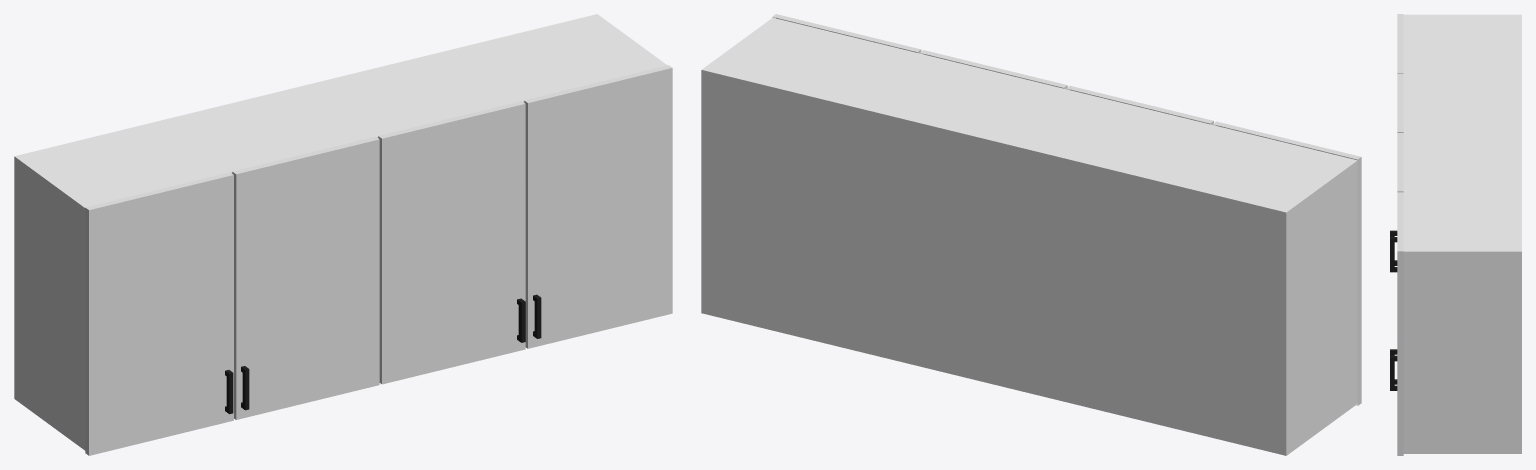
File: kitchen_item_025.glb
3 renders of one model, left to right at view 1: azimuth 30°, elevation 25°; view 2: azimuth 150°, elevation 25°; view 3: azimuth 270°, elevation 25°, orthographic. The views are drawn at different scales.
Visible parts, largest first — view 1: kitchen_item_025; view 2: kitchen_item_025; view 3: kitchen_item_025.
Boxes of the visible parts, box(x1,y1,x2,y2) form: kitchen_item_025: box(14, 14, 672, 455); kitchen_item_025: box(701, 14, 1361, 455); kitchen_item_025: box(1390, 14, 1521, 455).
Bounding box in the file's own units: 2.2 × 0.8859 × 0.5174.
1 material, 1 textured.
